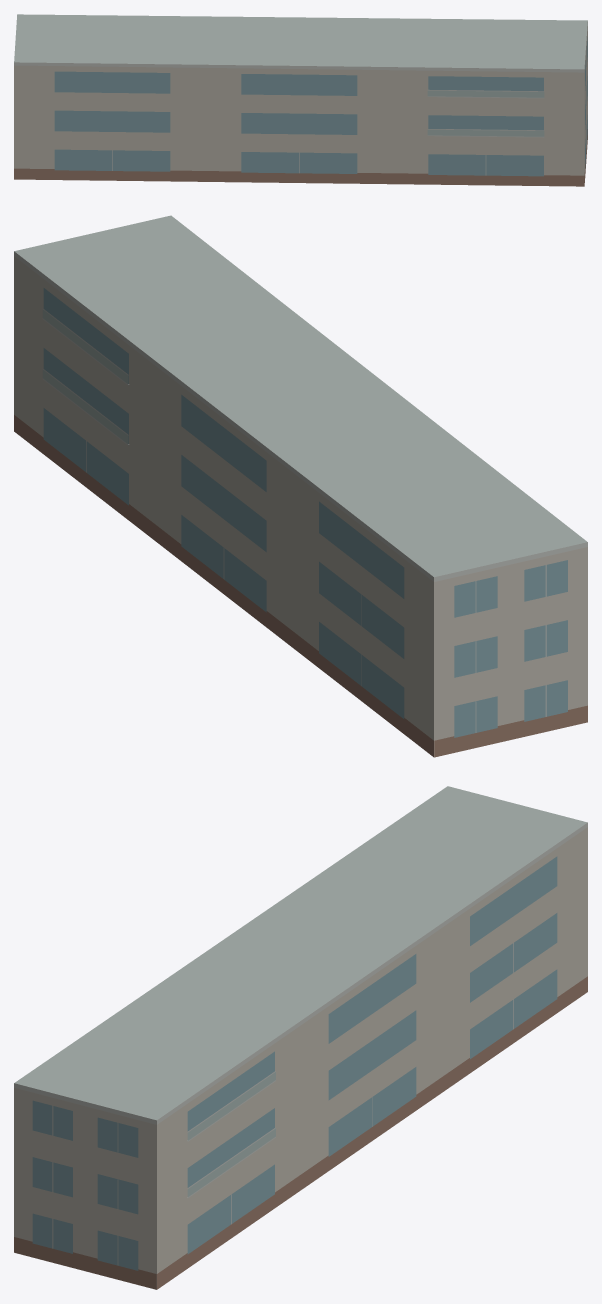
Rendered from survey-upis-32941310.glb.
3 views of the same model, one above another, from view 1: azimuth 30°, elevation 25°; view 2: azimuth 150°, elevation 25°; view 3: azimuth 270°, elevation 25° (orthographic). The views are drawn at different scales.
Visible parts, largest first — view 1: survey-upis-32941310.tmp; view 2: survey-upis-32941310.tmp; view 3: survey-upis-32941310.tmp.
Part boxes in pixels (x1=…): survey-upis-32941310.tmp: x1=14, y1=14, x2=587, y2=186; survey-upis-32941310.tmp: x1=14, y1=215, x2=587, y2=757; survey-upis-32941310.tmp: x1=14, y1=786, x2=587, y2=1289.
Bounding box in the file's own units: 38.72 × 9.15 × 28.09.
